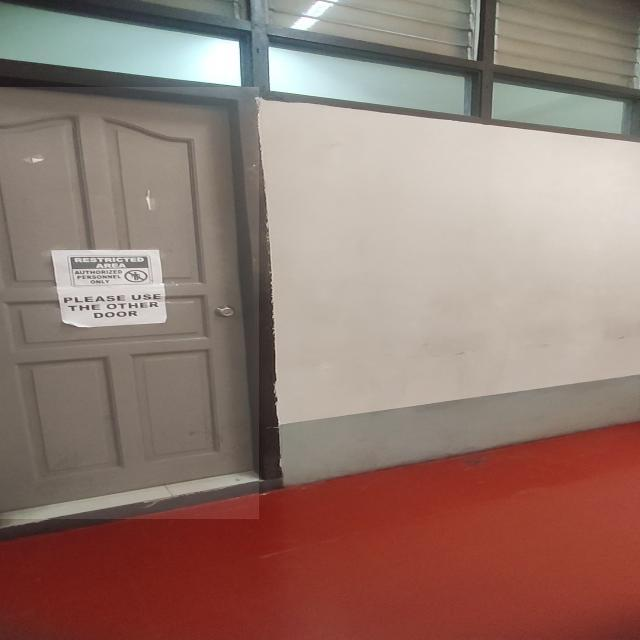door: (0, 87, 259, 519)
